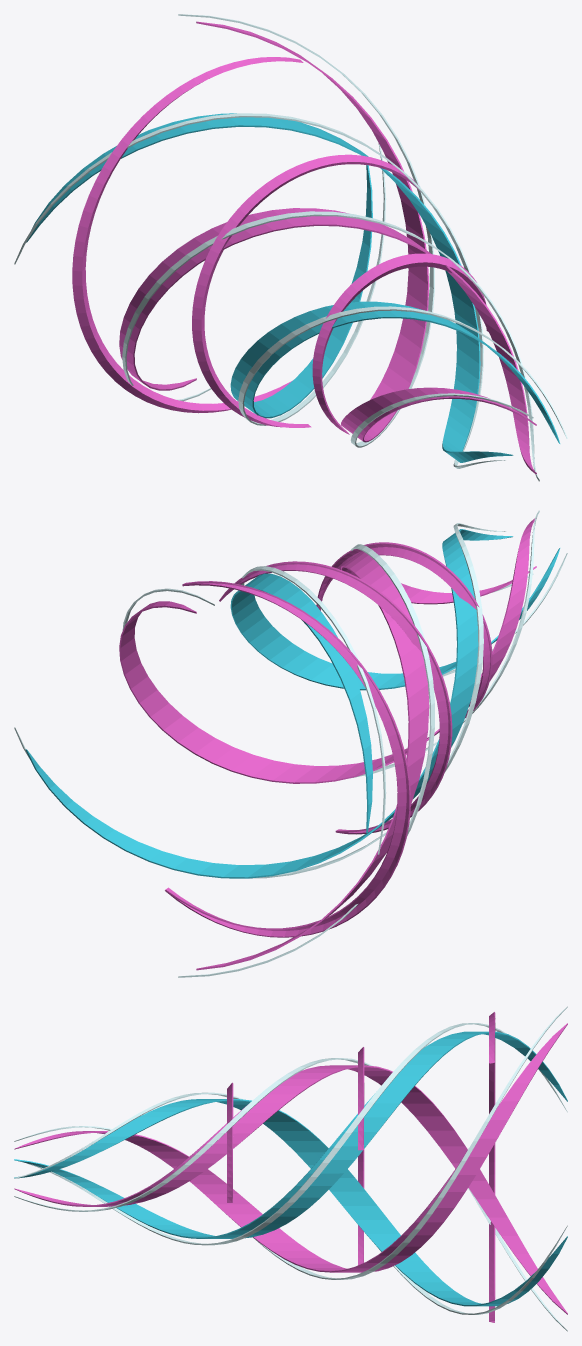
The model's file is VFX_66_GasSoffioSerpentino.fbx.
3 renders of one model, top to bottom at view 1: azimuth 30°, elevation 25°; view 2: azimuth 150°, elevation 25°; view 3: azimuth 270°, elevation 25°, orthographic. The views are drawn at different scales.
Visible parts, largest first — view 1: VFX_66_GasSoffioSerpentino; view 2: VFX_66_GasSoffioSerpentino; view 3: VFX_66_GasSoffioSerpentino.
Boxes of the visible parts, bbox=[...] form: VFX_66_GasSoffioSerpentino: bbox=[14, 14, 567, 481]; VFX_66_GasSoffioSerpentino: bbox=[14, 510, 567, 977]; VFX_66_GasSoffioSerpentino: bbox=[14, 1006, 567, 1331].
Size of the model in its own units: 236 by 236 by 381.
1 material, 1 textured.
